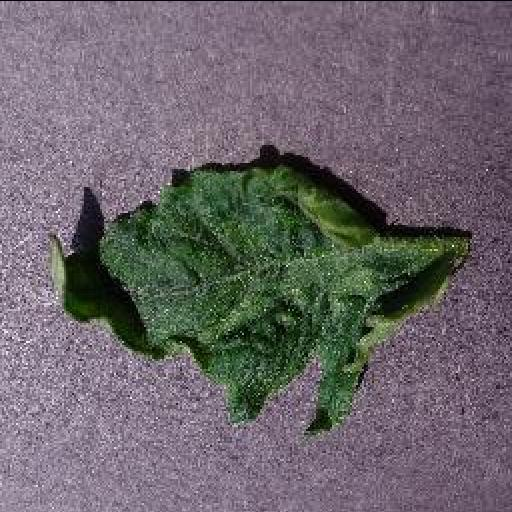Mosaic Virus: (48, 162, 456, 434)
